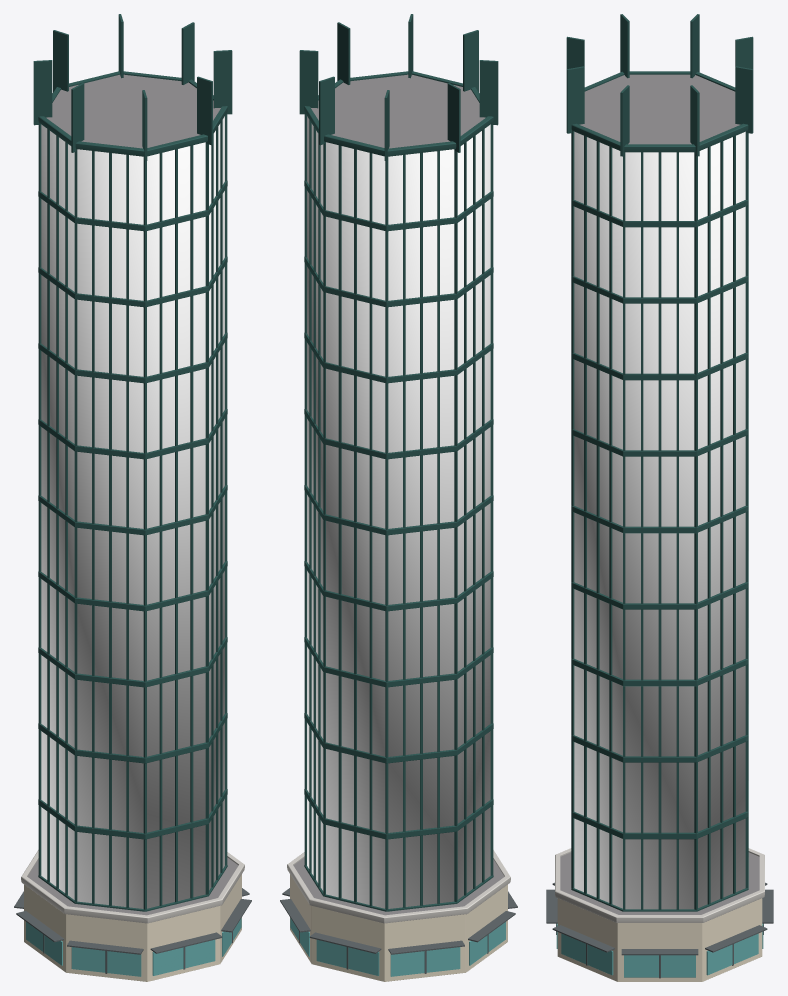
File: tower_octagon_fins.glb
3 views of the same model, side by side, from view 1: azimuth 30°, elevation 25°; view 2: azimuth 150°, elevation 25°; view 3: azimuth 270°, elevation 25° (orthographic).
Visible parts, largest first — view 1: curtain, mullions, tower trim, tower props; view 2: curtain, mullions, tower trim, tower props; view 3: curtain, mullions, tower trim, tower props.
Part boxes in pixels (x1,y1,x2,y2): curtain: [41, 116, 224, 908]; mullions: [33, 14, 232, 973]; tower trim: [21, 71, 244, 981]; tower props: [14, 888, 251, 976]; curtain: [307, 116, 490, 908]; mullions: [299, 14, 498, 973]; tower trim: [287, 71, 510, 981]; tower props: [280, 888, 517, 976]; curtain: [574, 131, 745, 909]; mullions: [556, 14, 763, 978]; tower trim: [555, 71, 764, 981]; tower props: [546, 882, 773, 977].
Size of the model in its own units: 29.07 by 125 by 29.07.
